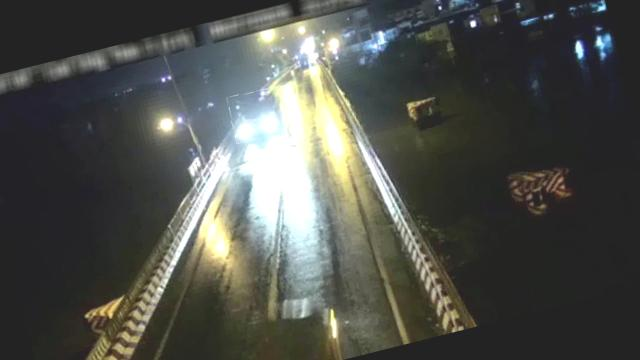Truck: (226, 86, 291, 144)
